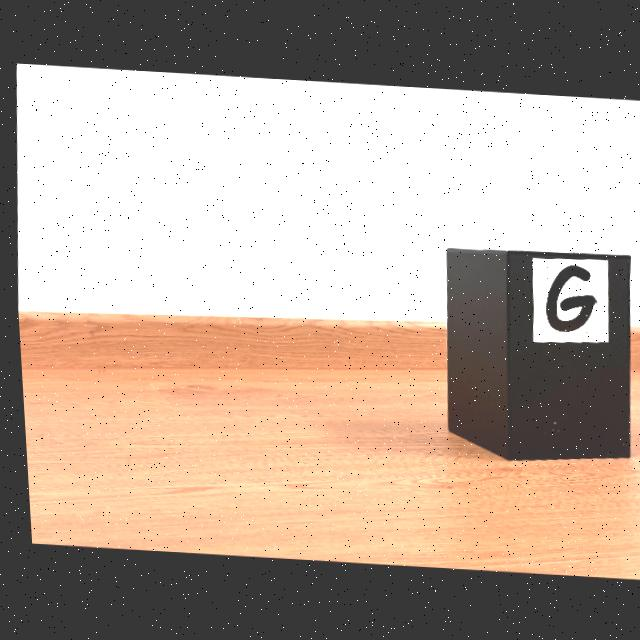G: (542, 265, 592, 332)
